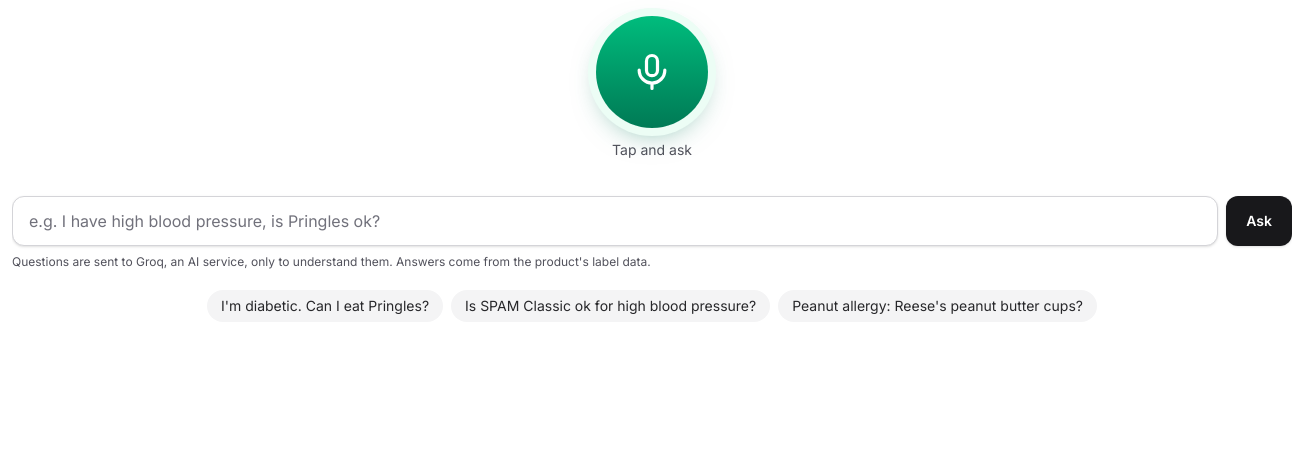
[ASSIST-15] [ASSIST-16] understanding with the LLM route › asks which one for a broad product instead of picking
In the field named "Your question": [615, 221] box 12,196 -> 1218,246, type "is chocolate ok for my teeth"
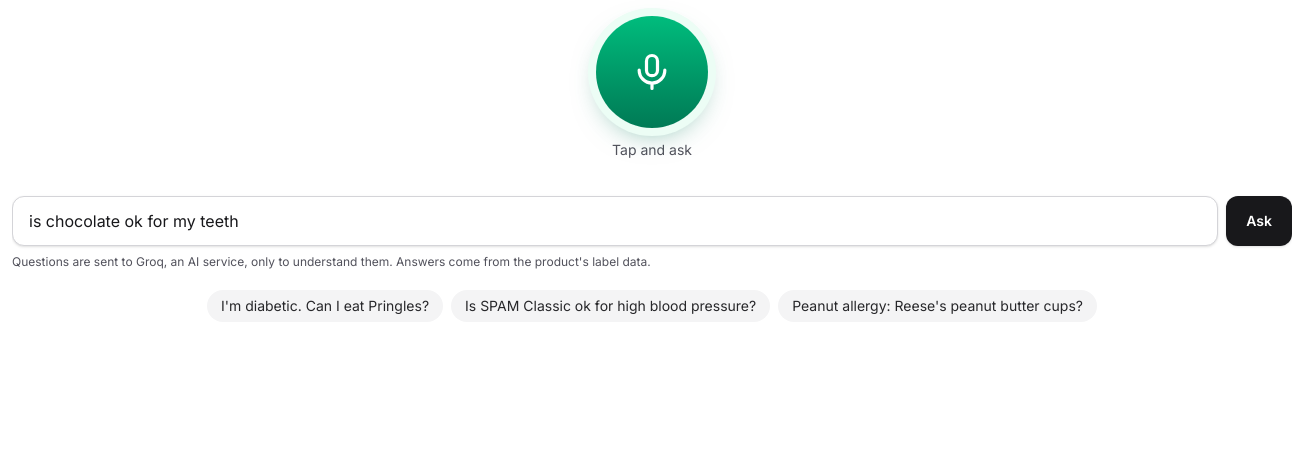
Click the button "Ask": [1259, 221] box 1226,196 -> 1292,246
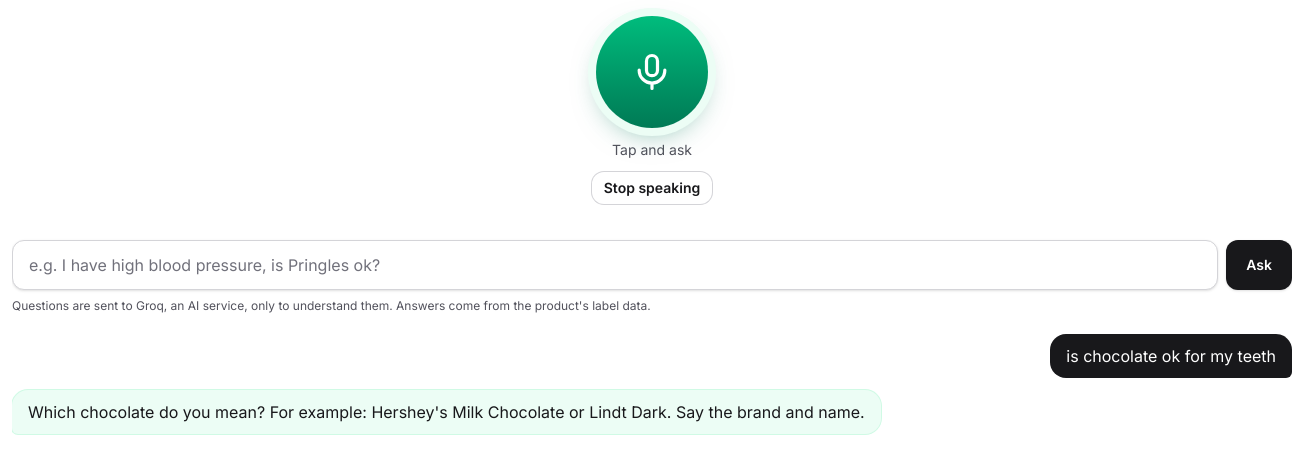
expect the button "Ask" is enabled: met, box 1226,240 -> 1292,290
expect the list named "Conversation" shows "Which chocolate do you mean? For example: Hershey's Milk Chocolate or Lindt Dark.": met, box 28,402 -> 865,422
